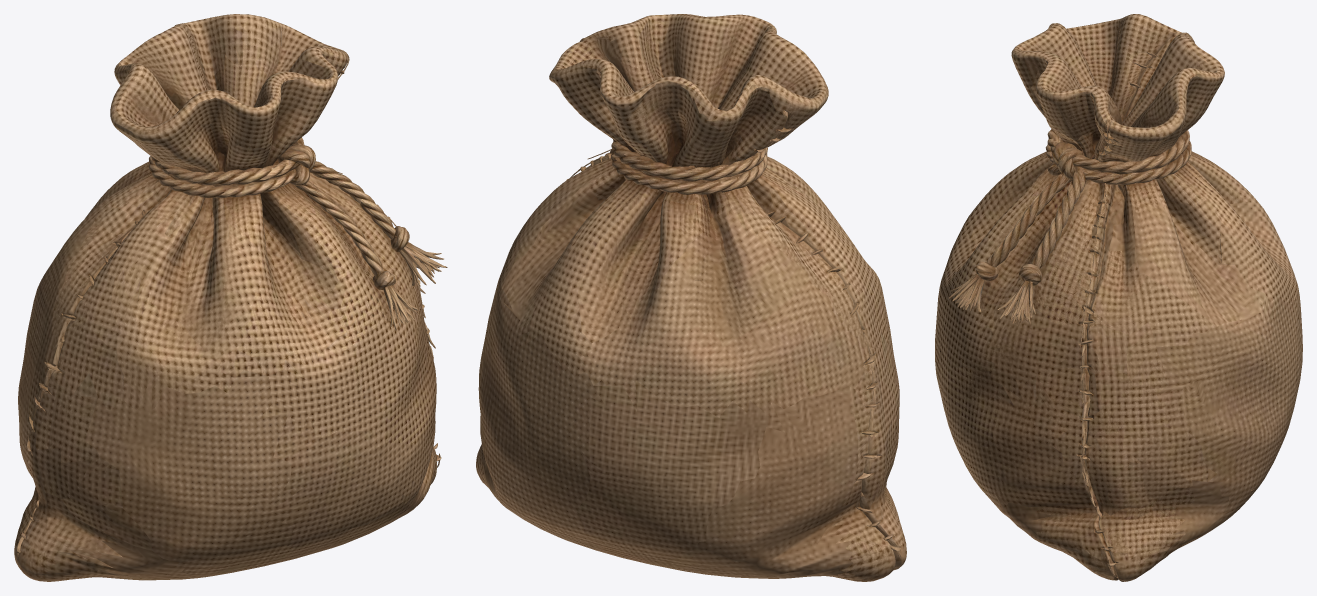
File: sack.glb
The picture shows the model from 3 angles, left to right: view 1: azimuth 30°, elevation 25°; view 2: azimuth 150°, elevation 25°; view 3: azimuth 270°, elevation 25°; orthographic projection. The views are drawn at different scales.
Parts seen in each view (by area): view 1: Mesh_0; view 2: Mesh_0; view 3: Mesh_0.
Boxes of the visible parts, x1,y1,x2,y2 form: Mesh_0: (14,14,447,581); Mesh_0: (476,14,906,581); Mesh_0: (935,14,1302,581).
Size of the model in its own units: 1.73 by 1.9 by 1.4.
1 material, 1 textured.
